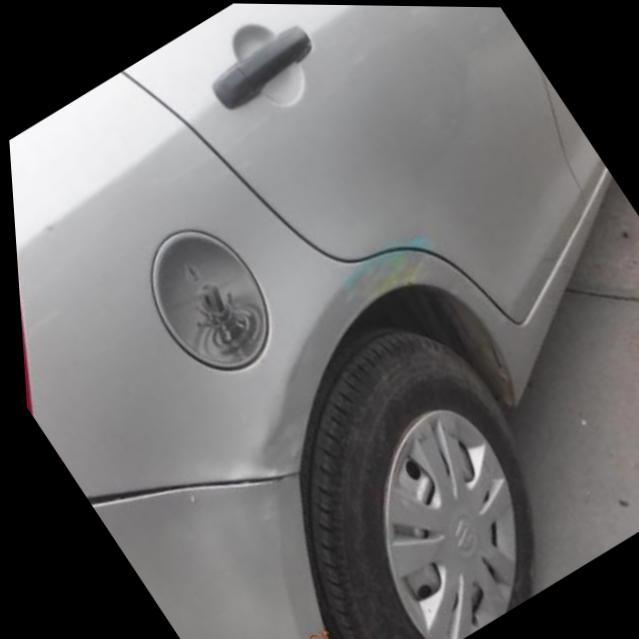dislocated part: (78, 405, 301, 507)
scratch: (329, 230, 429, 306)
